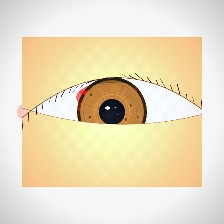hemorrhage_spot: (65, 65, 146, 130)
